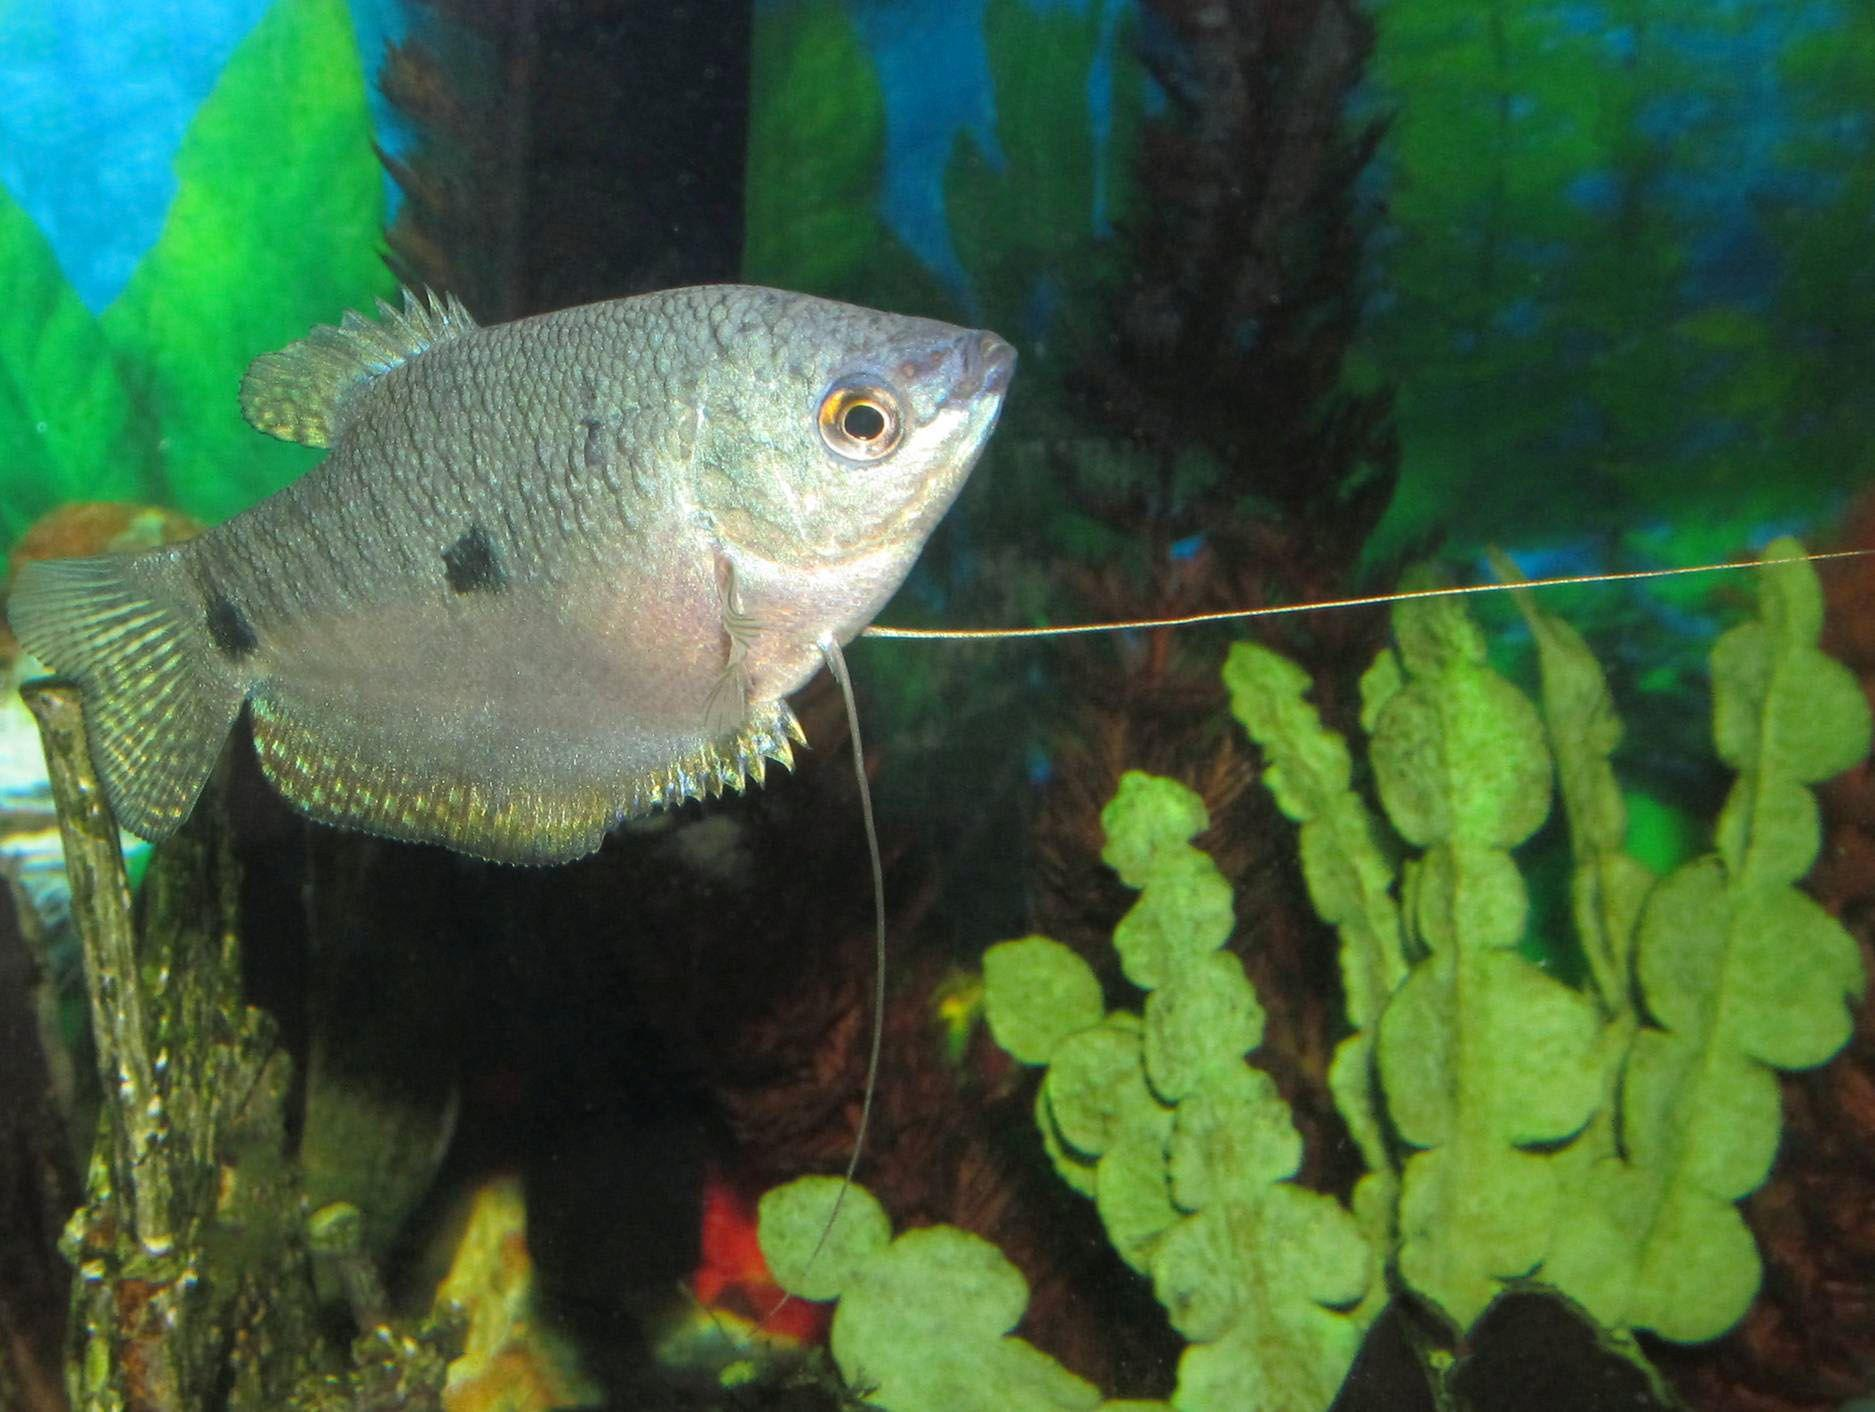Gourami: (31, 267, 1875, 1253)
